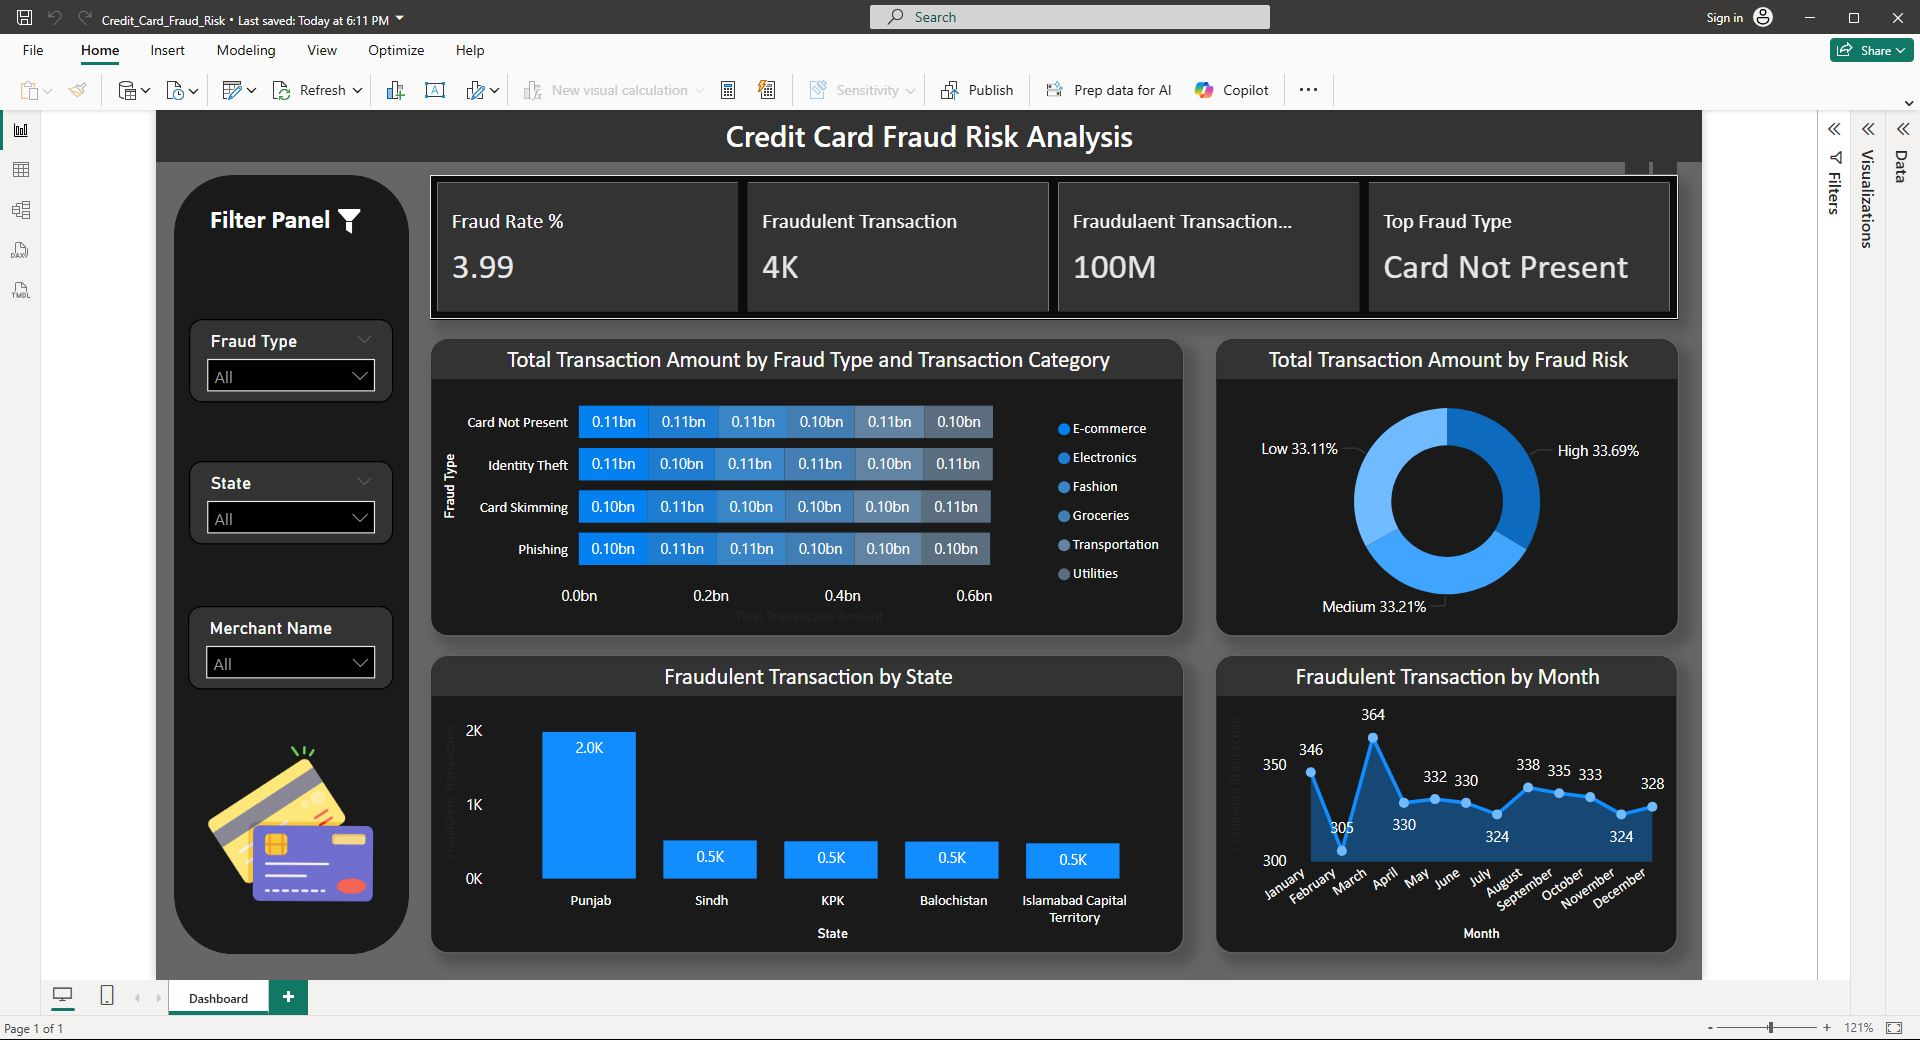

Layout of this report page (visuals, bound fields, positions):
{"tool":"powerbi","page":{"name":"Dashboard","canvas":[1280,720],"ordinal":0},"visuals":[{"type":"textbox","box":[0,0,1280,43.3],"z":0},{"type":"shape","box":[14.6,53.5,194.5,644.9],"z":1000},{"type":"textbox","box":[28.2,72.8,132.7,38.8],"z":2000},{"type":"image","box":[132.7,76.3,55.2,31.7],"z":3000},{"type":"barChart","fields":{"Category":["Credit_Card_Fraud_Risk_Analysis.Fraud Type"],"Series":["Credit_Card_Fraud_Risk_Analysis.Transaction Category"],"Y":["Credit_Card_Fraud_Risk_Analysis.Total Transaction Amount"]},"box":[226.6,188.7,624.4,247.1],"z":4000},{"type":"donutChart","fields":{"Category":["Credit_Card_Fraud_Risk_Analysis.Fraud Risk"],"Y":["Credit_Card_Fraud_Risk_Analysis.Total Transaction Amount"]},"box":[876.4,188.7,384.2,247.1],"z":5000},{"type":"columnChart","fields":{"Y":["Credit_Card_Fraud_Risk_Analysis.Fraudulent Transaction"],"Category":["Credit_Card_Fraud_Risk_Analysis.State"]},"box":[226.6,451.3,624.4,247.1],"z":6000},{"type":"lineChart","fields":{"Y":["Credit_Card_Fraud_Risk_Analysis.Fraudulent Transaction"],"Category":["Credit_Card_Fraud_Risk_Analysis.Transaction Date.Variation.Date Hierarchy.Month"]},"box":[876.4,451.3,383.2,247.1],"z":7000},{"type":"slicer","fields":{"Values":["Credit_Card_Fraud_Risk_Analysis.Fraud Type"]},"box":[27.2,173.1,169.2,69.1],"z":8000},{"type":"slicer","fields":{"Values":["Credit_Card_Fraud_Risk_Analysis.State"]},"box":[27.2,290.8,169.2,69.1],"z":9000},{"type":"slicer","fields":{"Values":["Credit_Card_Fraud_Risk_Analysis.Merchant Name"]},"box":[26.3,410.5,170.2,69.1],"z":10000},{"type":"image","box":[26.3,505.8,170.2,170.2],"z":11000},{"type":"cardVisual","fields":{"Data":["Credit_Card_Fraud_Risk_Analysis.Fraud Rate %","Credit_Card_Fraud_Risk_Analysis.Fraudulent Transaction","Credit_Card_Fraud_Risk_Analysis.Fraudulaent Transaction Amount","Credit_Card_Fraud_Risk_Analysis.Top Fraud Type"]},"box":[226.6,53.5,1032.9,119.6],"z":12000}]}

Visuals, with their boxes on the page's 1280x720 design canvas (x1, y1, x2, y2). These are canvas units, not pixel positions in the 1920x1040 screenshot, which may show the page scaled, cropped or inside an application window:
textbox: box=[0, 0, 1280, 43]
shape: box=[15, 54, 209, 698]
textbox: box=[28, 73, 161, 112]
image: box=[133, 76, 188, 108]
barChart - Credit_Card_Fraud_Risk_Analysis.Fraud Type x Credit_Card_Fraud_Risk_Analysis.Transaction Category: box=[227, 189, 851, 436]
donutChart - Credit_Card_Fraud_Risk_Analysis.Fraud Risk x Credit_Card_Fraud_Risk_Analysis.Total Transaction Amount: box=[876, 189, 1261, 436]
columnChart - Credit_Card_Fraud_Risk_Analysis.Fraudulent Transaction x Credit_Card_Fraud_Risk_Analysis.State: box=[227, 451, 851, 698]
lineChart - Credit_Card_Fraud_Risk_Analysis.Fraudulent Transaction x Credit_Card_Fraud_Risk_Analysis.Transaction Date.Variation.Date Hierarchy.Month: box=[876, 451, 1260, 698]
slicer - Credit_Card_Fraud_Risk_Analysis.Fraud Type: box=[27, 173, 196, 242]
slicer - Credit_Card_Fraud_Risk_Analysis.State: box=[27, 291, 196, 360]
slicer - Credit_Card_Fraud_Risk_Analysis.Merchant Name: box=[26, 410, 196, 480]
image: box=[26, 506, 196, 676]
cardVisual - Credit_Card_Fraud_Risk_Analysis.Fraud Rate % x Credit_Card_Fraud_Risk_Analysis.Fraudulent Transaction: box=[227, 54, 1260, 173]
